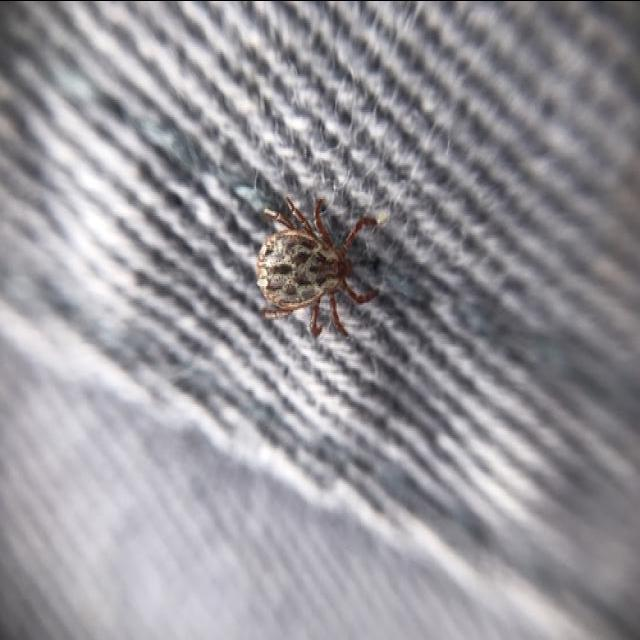Dermacentor Reticulatus-M: (256, 196, 380, 338)
